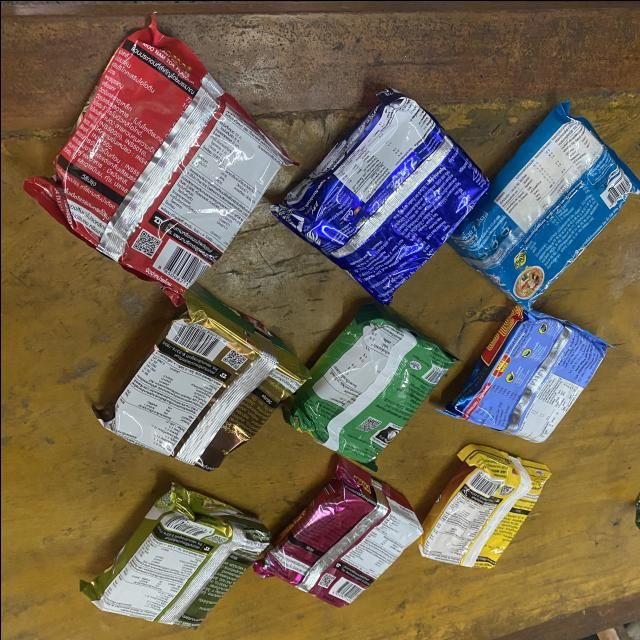plastik: (23, 15, 293, 304), (270, 89, 487, 303), (447, 100, 640, 309), (93, 284, 308, 470), (282, 301, 455, 466), (79, 483, 270, 628), (253, 455, 420, 606), (437, 305, 607, 441), (419, 444, 550, 567)
